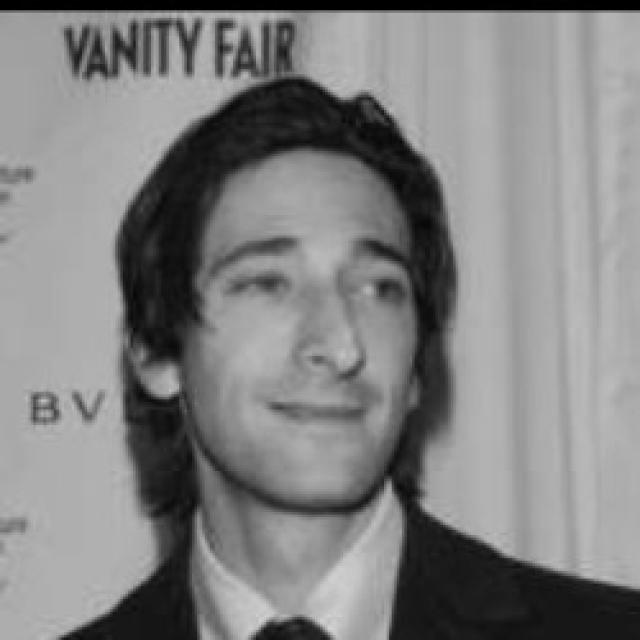real: (176, 152, 420, 517), (201, 244, 414, 319)
